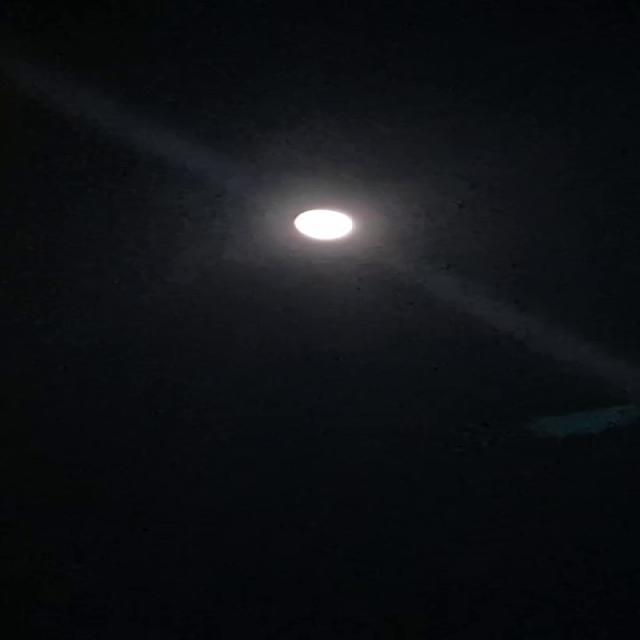moon: (264, 199, 368, 249)
